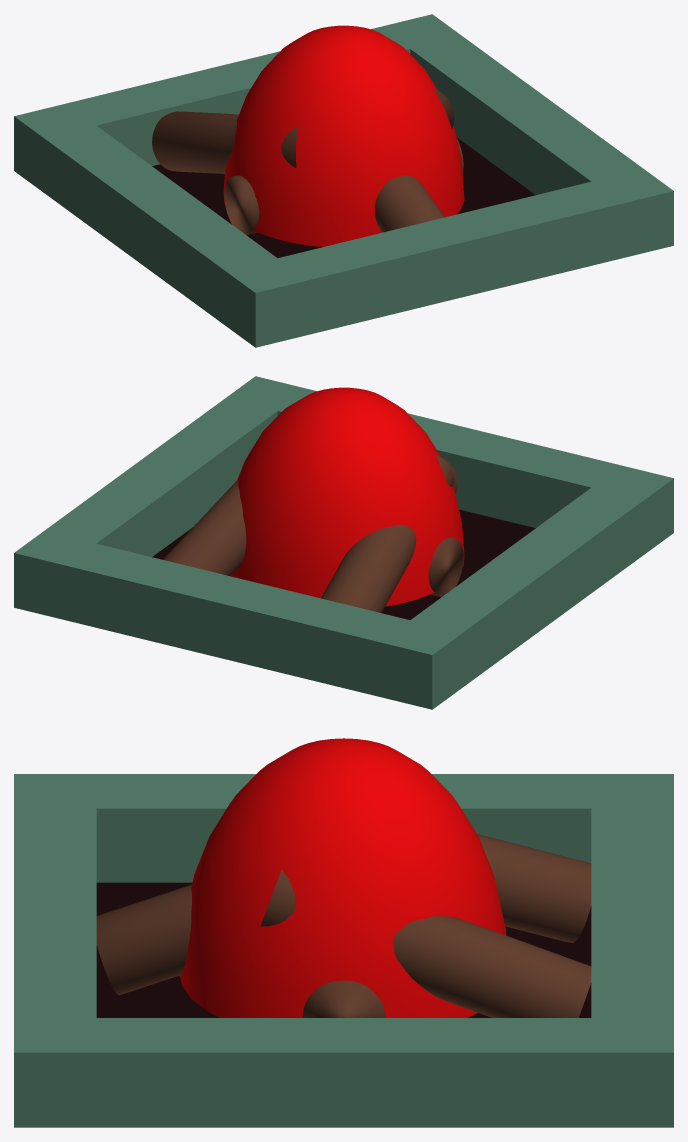
File: koster.glb
3 views of the same model, one above another, from view 1: azimuth 30°, elevation 25°; view 2: azimuth 150°, elevation 25°; view 3: azimuth 270°, elevation 25° (orthographic). The views are drawn at different scales.
Parts seen in each view (by area): view 1: Плоскость.001, Fire, Плоскость, Цилиндр, Цилиндр.003, Цилиндр.001; view 2: Плоскость.001, Fire, Цилиндр, Цилиндр.002, Плоскость, Цилиндр.001; view 3: Плоскость.001, Fire, Цилиндр.002, Цилиндр, Цилиндр.003, Плоскость, Цилиндр.001.
Part boxes in pixels (x1=…): Плоскость.001: x1=14, y1=14, x2=673, y2=347; Fire: x1=223, y1=25, x2=464, y2=246; Плоскость: x1=152, y1=137, x2=535, y2=257; Цилиндр: x1=152, y1=111, x2=298, y2=173; Цилиндр.003: x1=374, y1=175, x2=444, y2=232; Цилиндр.001: x1=224, y1=139, x2=463, y2=234; Плоскость.001: x1=14, y1=376, x2=673, y2=709; Fire: x1=230, y1=387, x2=464, y2=606; Цилиндр: x1=321, y1=454, x2=454, y2=612; Цилиндр.002: x1=163, y1=480, x2=246, y2=575; Плоскость: x1=152, y1=509, x2=535, y2=619; Цилиндр.001: x1=428, y1=537, x2=463, y2=596; Плоскость.001: x1=14, y1=774, x2=673, y2=1127; Fire: x1=179, y1=738, x2=506, y2=1017; Цилиндр.002: x1=260, y1=869, x2=591, y2=1017; Цилиндр: x1=477, y1=834, x2=591, y2=942; Цилиндр.003: x1=96, y1=884, x2=191, y2=995; Плоскость: x1=96, y1=882, x2=591, y2=1017; Цилиндр.001: x1=302, y1=980, x2=385, y2=1017.
Size of the model in its own units: 8 by 3.27 by 8.
